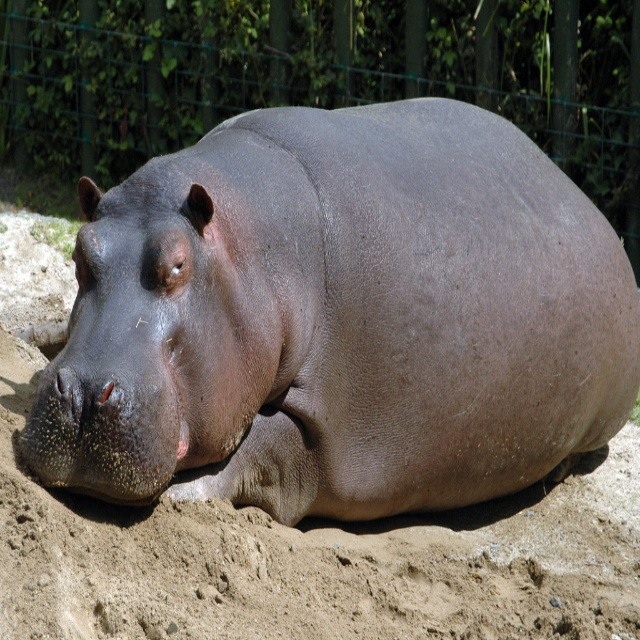Hippopotamus: (20, 95, 637, 524)
